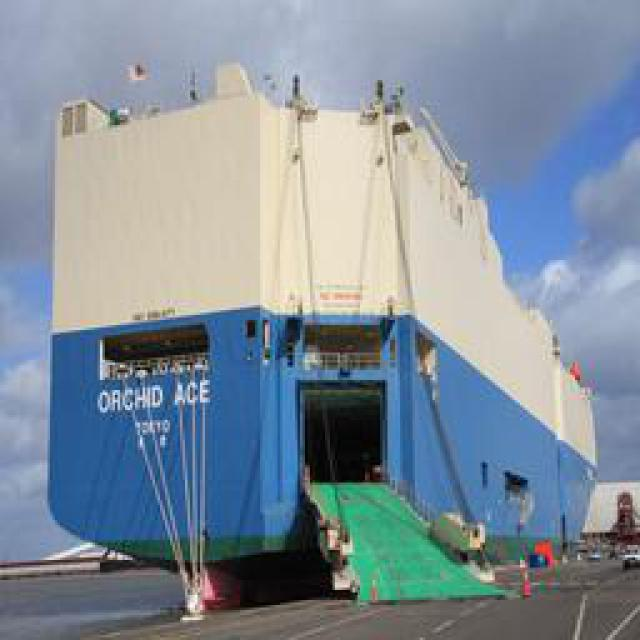Ship: (30, 57, 611, 581)
